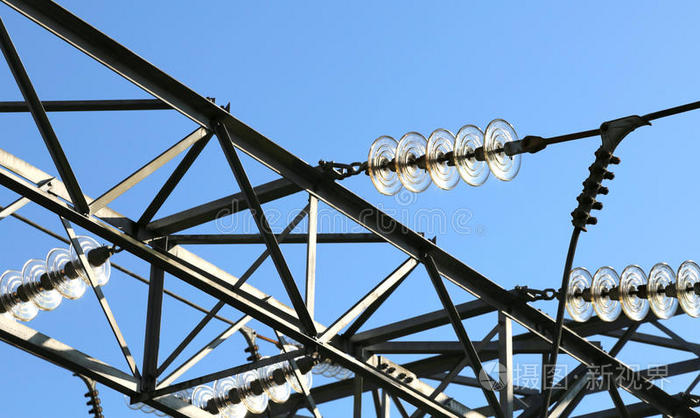insulator: (369, 121, 522, 195), (1, 236, 110, 324), (172, 357, 316, 417), (561, 262, 700, 322)
